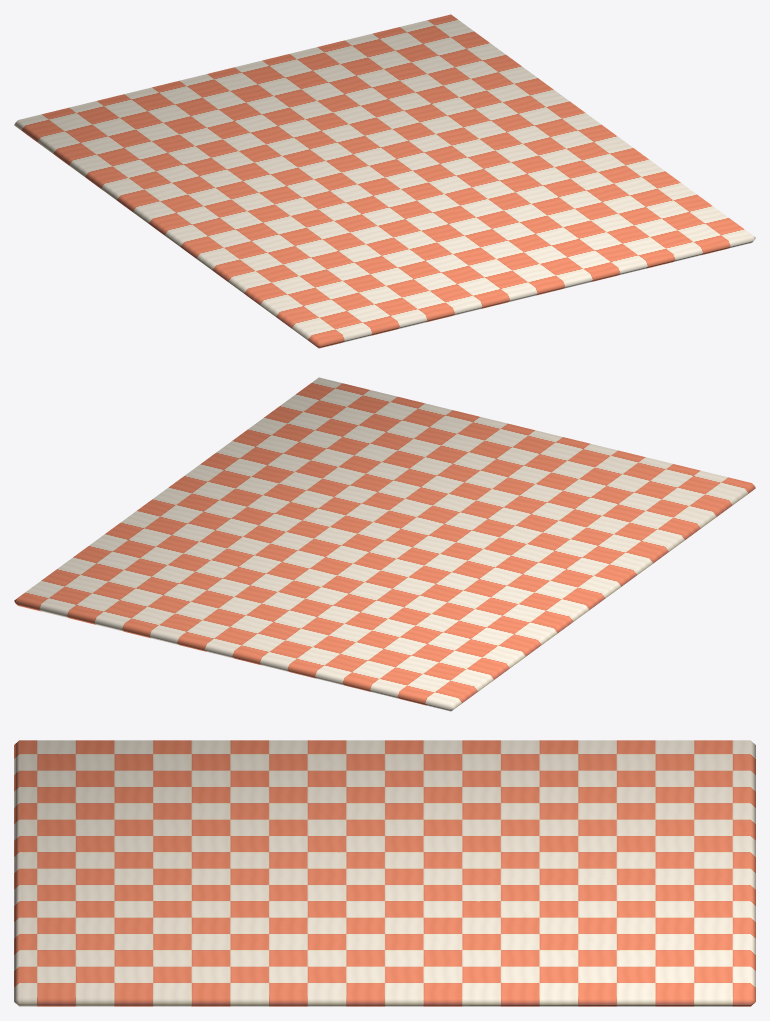
The model's file is w3_01_tabletop.glb.
3 renders of one model, top to bottom at view 1: azimuth 30°, elevation 25°; view 2: azimuth 150°, elevation 25°; view 3: azimuth 270°, elevation 25°, orthographic. The views are drawn at different scales.
Parts seen in each view (by area): view 1: W3_01_Tabletop; view 2: W3_01_Tabletop; view 3: W3_01_Tabletop.
Boxes of the visible parts, x1=… form: W3_01_Tabletop: x1=14, y1=14, x2=755, y2=348; W3_01_Tabletop: x1=14, y1=377, x2=755, y2=711; W3_01_Tabletop: x1=14, y1=740, x2=755, y2=1006.
Size of the model in its own units: 20 by 0.35 by 24.
Materials: 1 (1 with a texture image).
